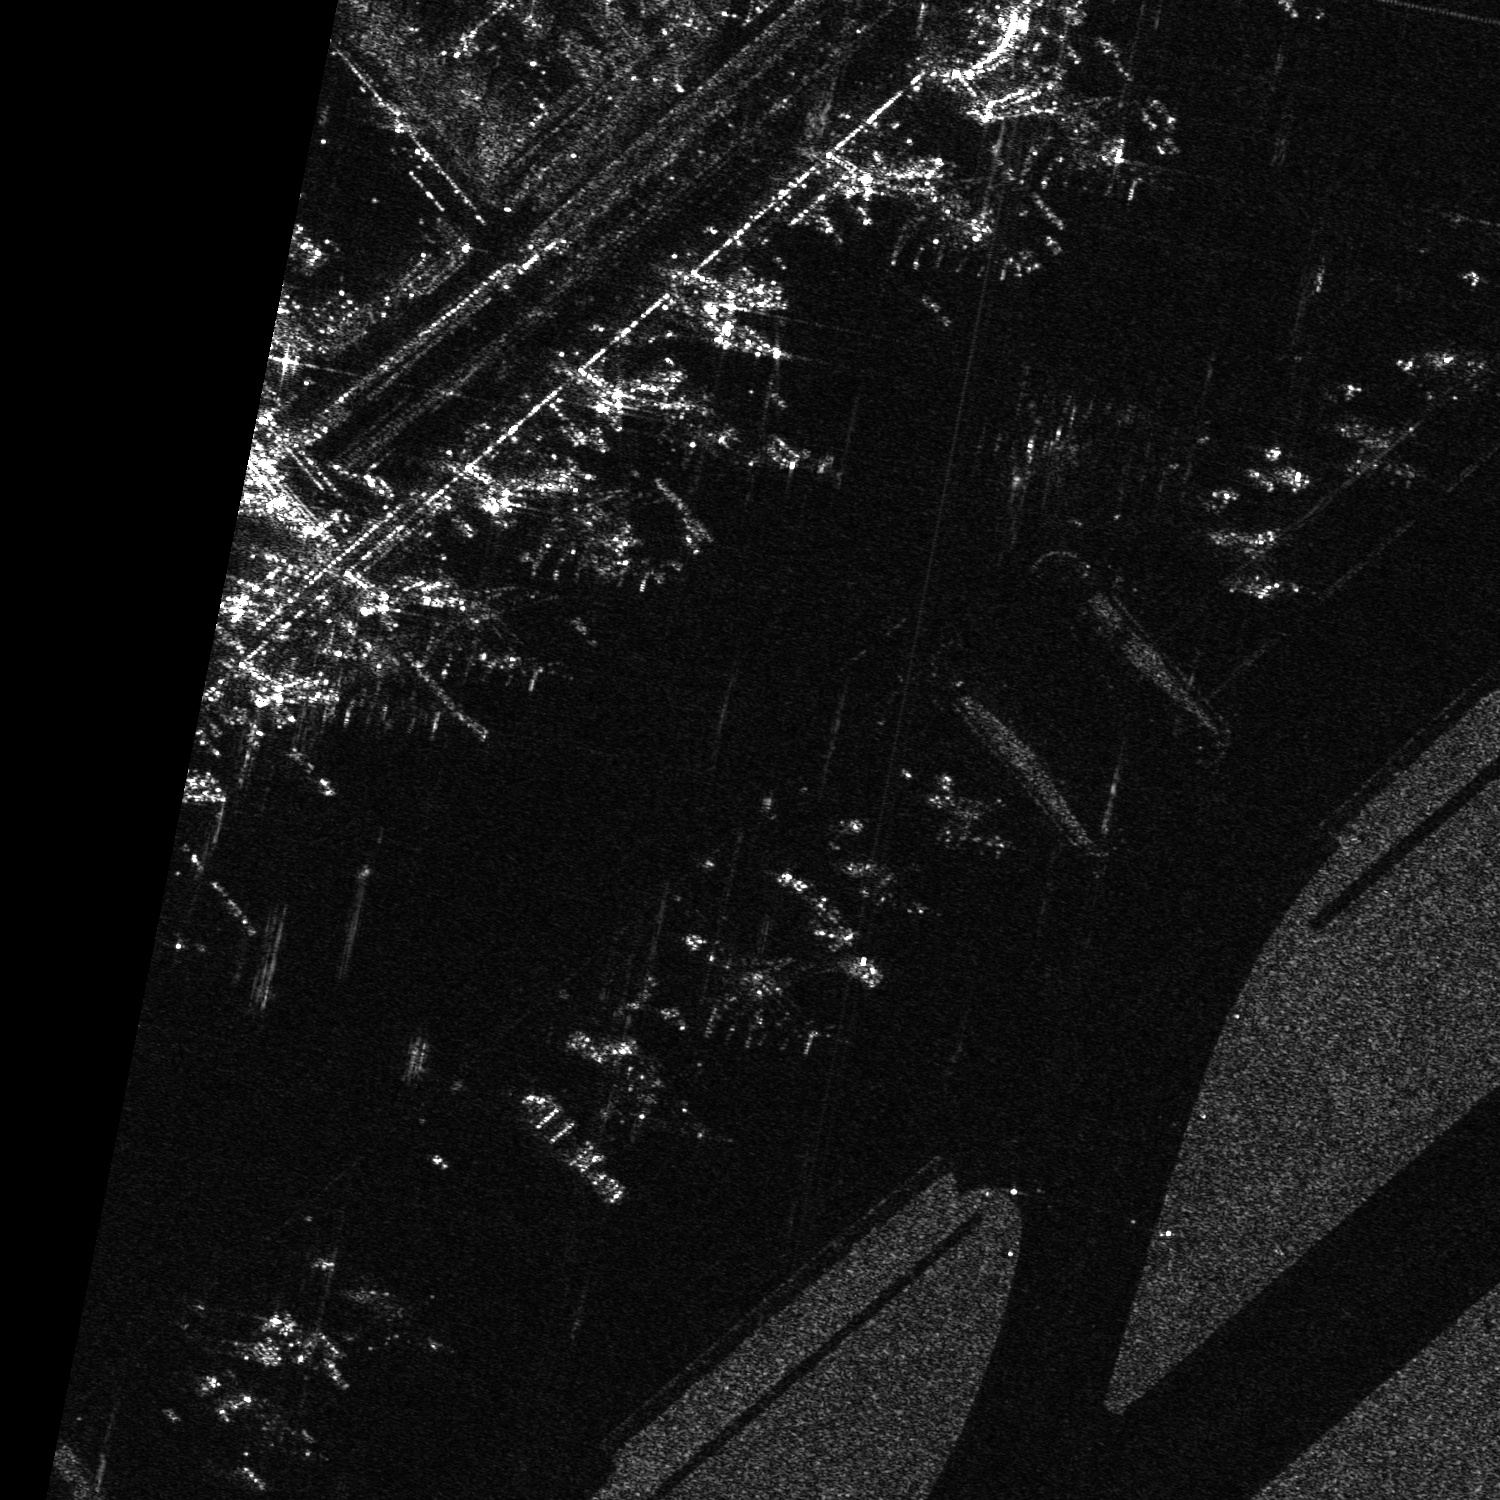Boeing737: (880, 174, 1019, 272), (540, 484, 662, 585), (1021, 93, 1135, 176), (1335, 402, 1431, 488), (927, 779, 1016, 865), (843, 850, 929, 927), (1433, 343, 1499, 411)
other: (574, 1019, 728, 1150), (419, 580, 570, 699), (676, 927, 817, 1051)
